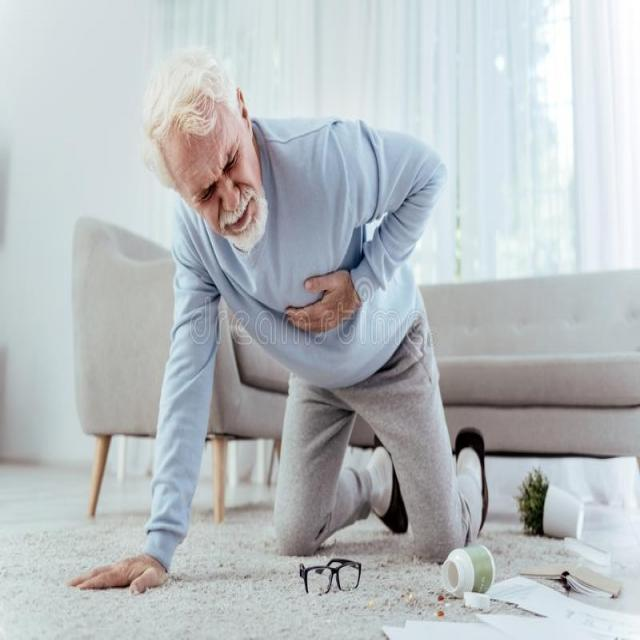fall detected: (104, 40, 510, 580)
